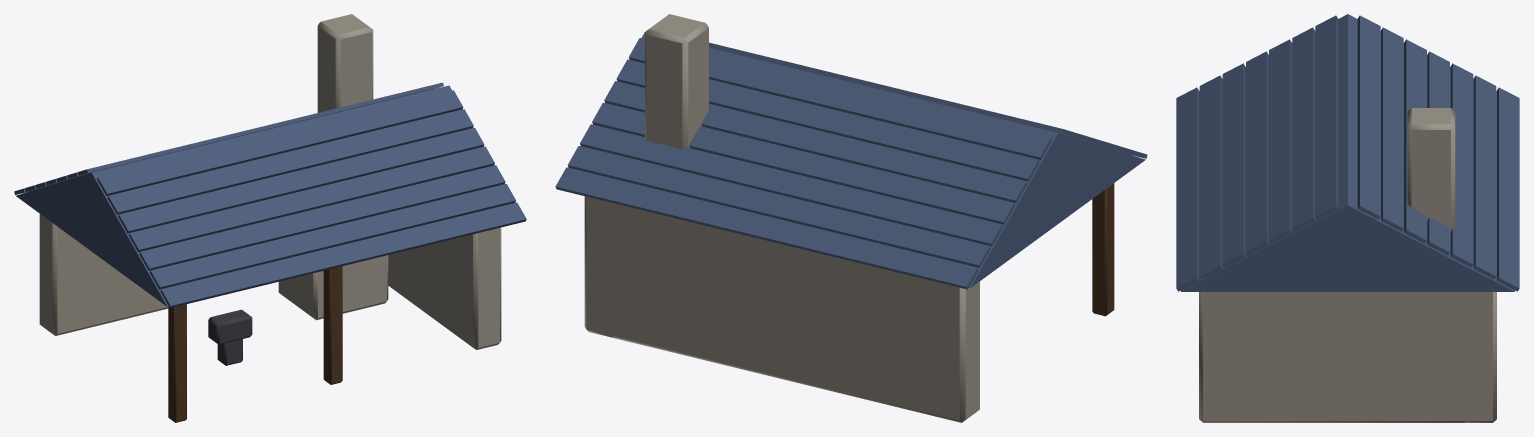
Rendered from smithy.glb.
3 renders of one model, left to right at view 1: azimuth 30°, elevation 25°; view 2: azimuth 150°, elevation 25°; view 3: azimuth 270°, elevation 25°, orthographic. The views are drawn at different scales.
Parts seen in each view (by area): view 1: building; view 2: building; view 3: building.
Part boxes in pixels (x1,y1,x2,y2): building: (14,14,526,422); building: (555,14,1147,422); building: (1176,14,1519,422).
Bounding box in the file's own units: 3.8 × 2.6 × 2.88.
